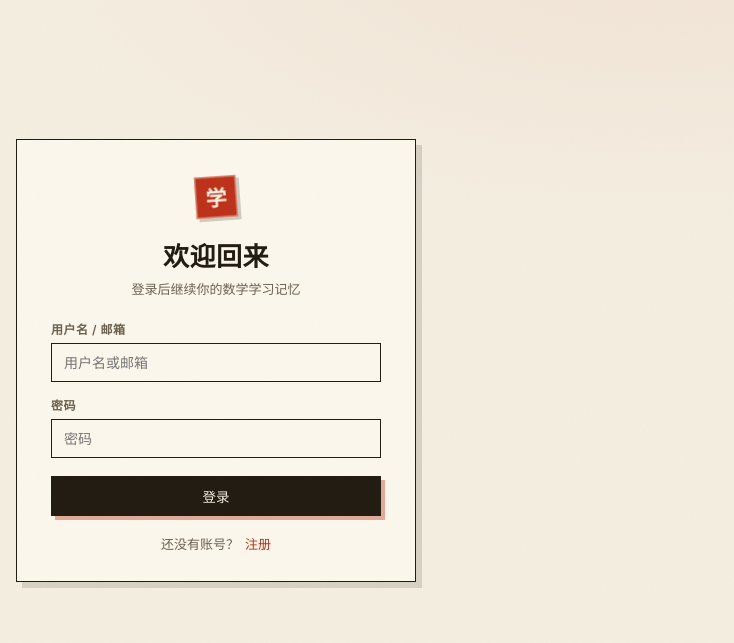
Test case: 个人中心：访客与已登录状态 › 访客进入个人中心展示登录表单，可切换到注册
The image size is (734, 643).
Expected: the heading "欢迎回来" is shown, [163,236,269,272]
Click the button "注册": (258, 543) [245,534,271,552]
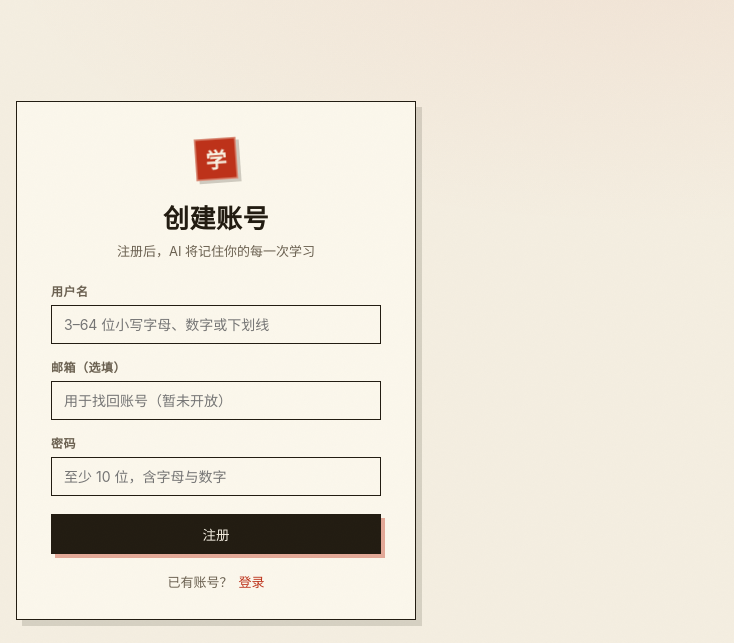
Result: the heading "创建账号" is shown at [163,198,269,234]
Click the button "登录": (252, 581) [238,572,264,590]
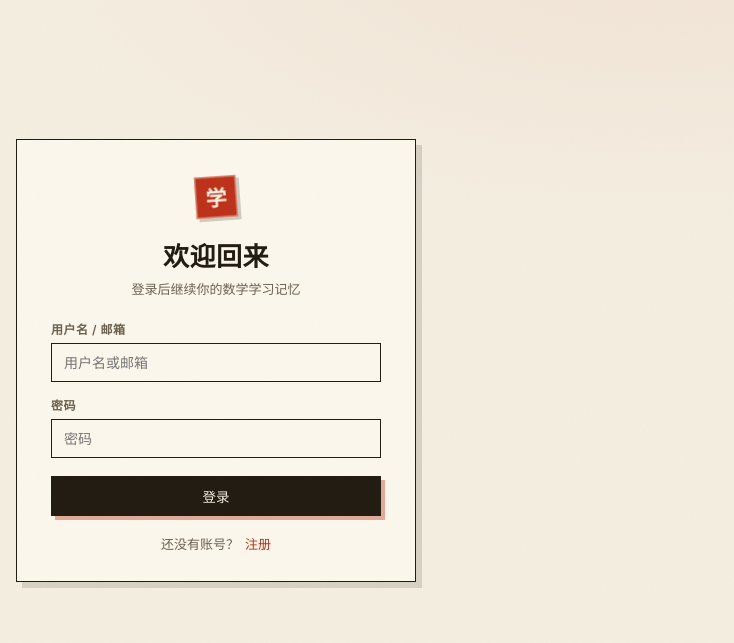
Result: the heading "欢迎回来" is shown at [163,236,269,272]
